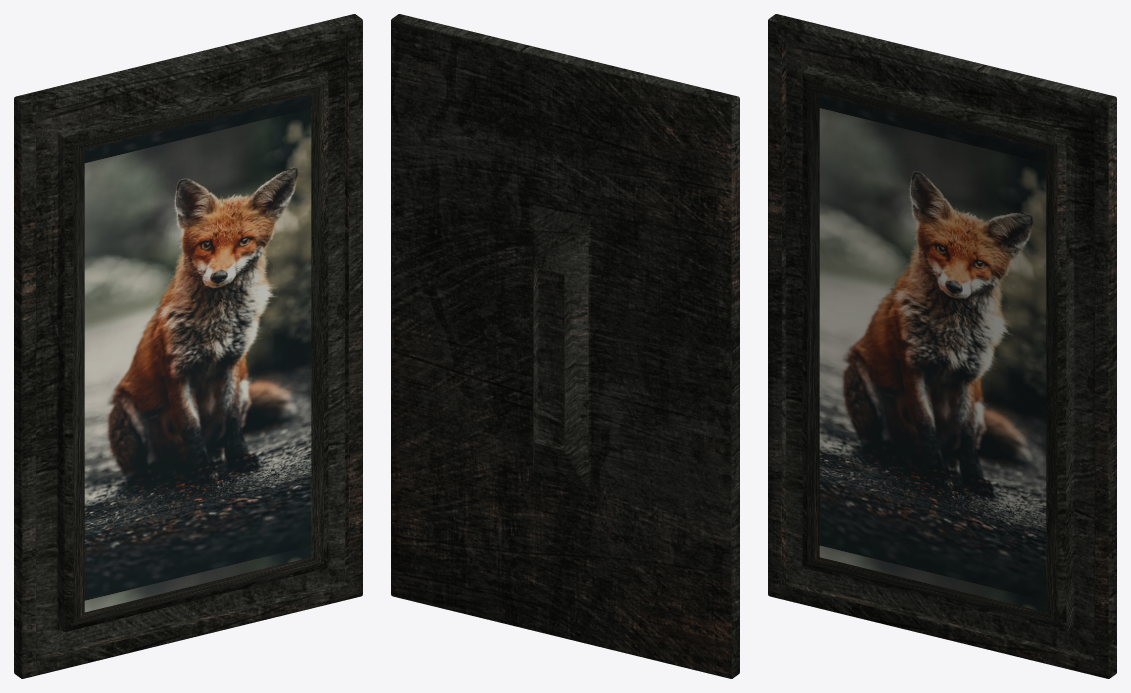
Rendered from PZ_PICTURE2_.fbx.
The picture shows the model from 3 angles, left to right: view 1: azimuth 30°, elevation 25°; view 2: azimuth 150°, elevation 25°; view 3: azimuth 330°, elevation 25°; orthographic projection.
Parts seen in each view (by area): view 1: PZ_PICTURE2; view 2: PZ_PICTURE2; view 3: PZ_PICTURE2.
Boxes of the visible parts, x1,y1,x2,y2 form: PZ_PICTURE2: (14, 14, 362, 678); PZ_PICTURE2: (391, 14, 739, 678); PZ_PICTURE2: (768, 14, 1116, 678).
Size of the model in its own units: 116 by 188 by 15.91.
